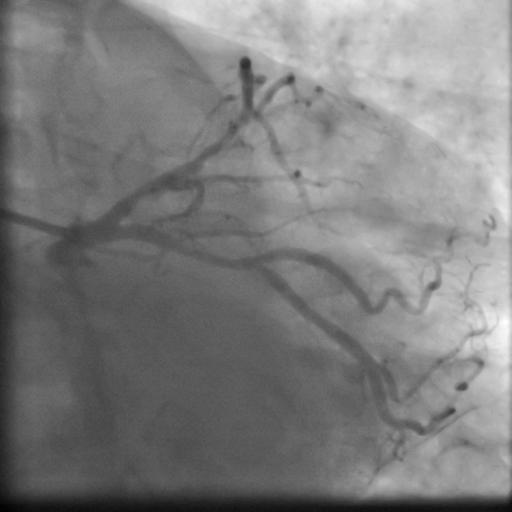Stenosis: (125, 183, 163, 202)
